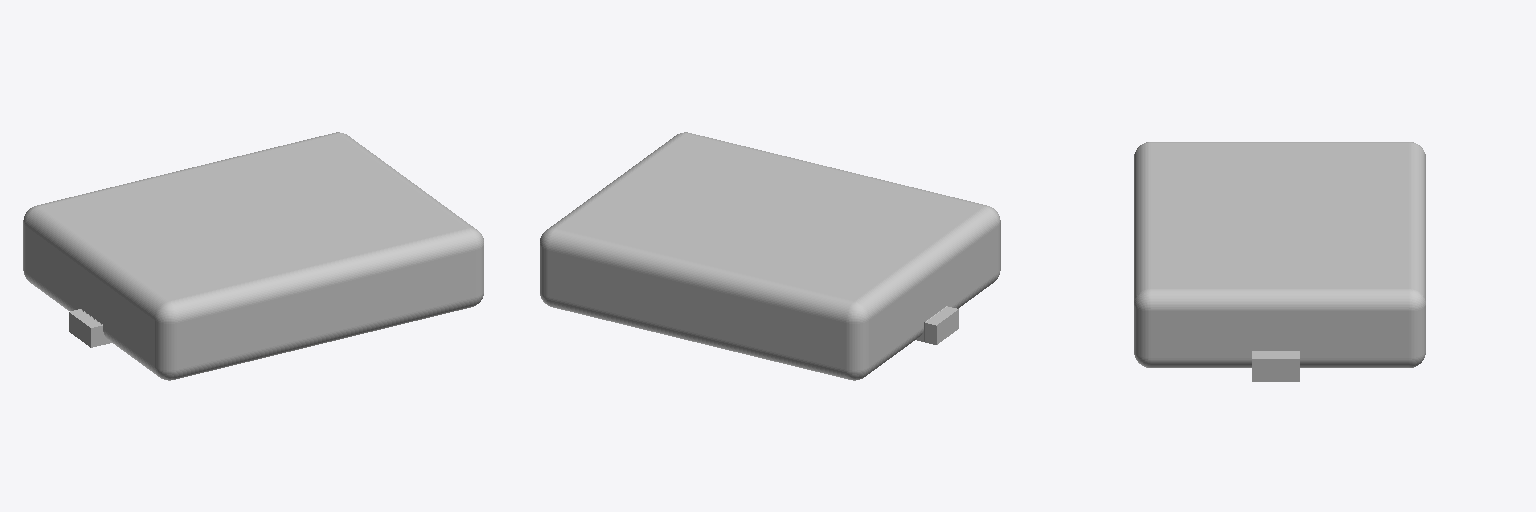
The picture shows the model from 3 angles: view 1: azimuth 30°, elevation 25°; view 2: azimuth 150°, elevation 25°; view 3: azimuth 270°, elevation 25°; orthographic projection.
Visible parts, largest first — view 1: Cubo_ID16, Cubo.002_ID25; view 2: Cubo_ID16, Cubo.002_ID25; view 3: Cubo_ID16, Cubo.1_ID7.
Part boxes in pixels (left/top/right/bottom): Cubo_ID16: left=23, top=132, right=483, bottom=380; Cubo.002_ID25: left=69, top=309, right=111, bottom=347; Cubo_ID16: left=540, top=132, right=1000, bottom=380; Cubo.002_ID25: left=916, top=306, right=958, bottom=344; Cubo_ID16: left=1134, top=142, right=1425, bottom=367; Cubo.1_ID7: left=1252, top=351, right=1299, bottom=381.
Size of the model in its own units: 23.9 by 5.01 by 17.